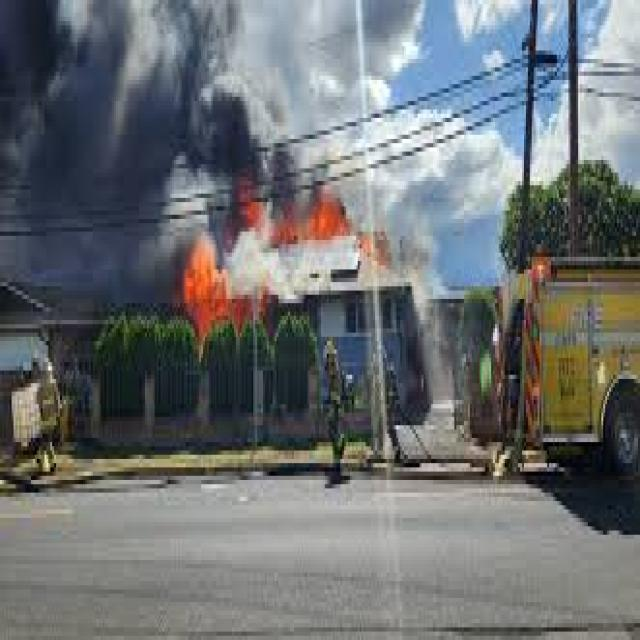fire: (161, 163, 366, 332)
